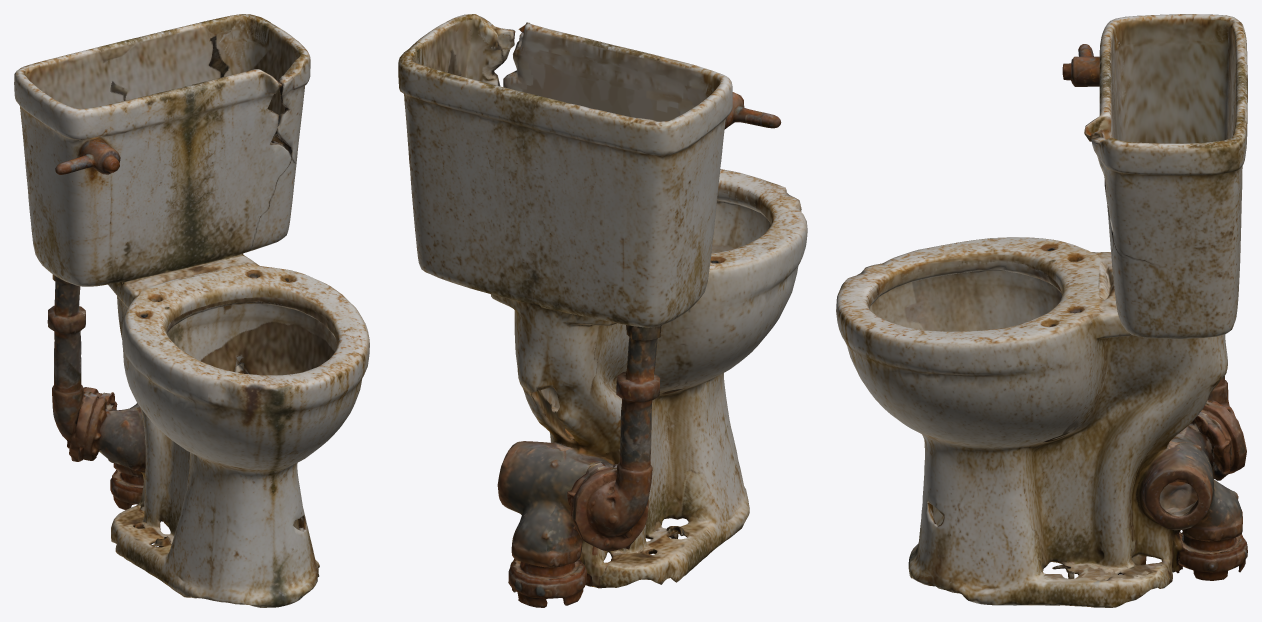
Rendered from Toilet.fbx.
3 views of the same model, side by side, from view 1: azimuth 30°, elevation 25°; view 2: azimuth 150°, elevation 25°; view 3: azimuth 270°, elevation 25° (orthographic). The views are drawn at different scales.
Visible parts, largest first — view 1: texture_mapping; view 2: texture_mapping; view 3: texture_mapping.
Boxes of the visible parts, x1,y1,x2,y2 form: texture_mapping: (14,14,369,607); texture_mapping: (398,14,807,607); texture_mapping: (836,14,1247,607).
Size of the model in its own units: 0.6312 by 0.7541 by 0.9974.
Materials: 1 (1 with a texture image).
